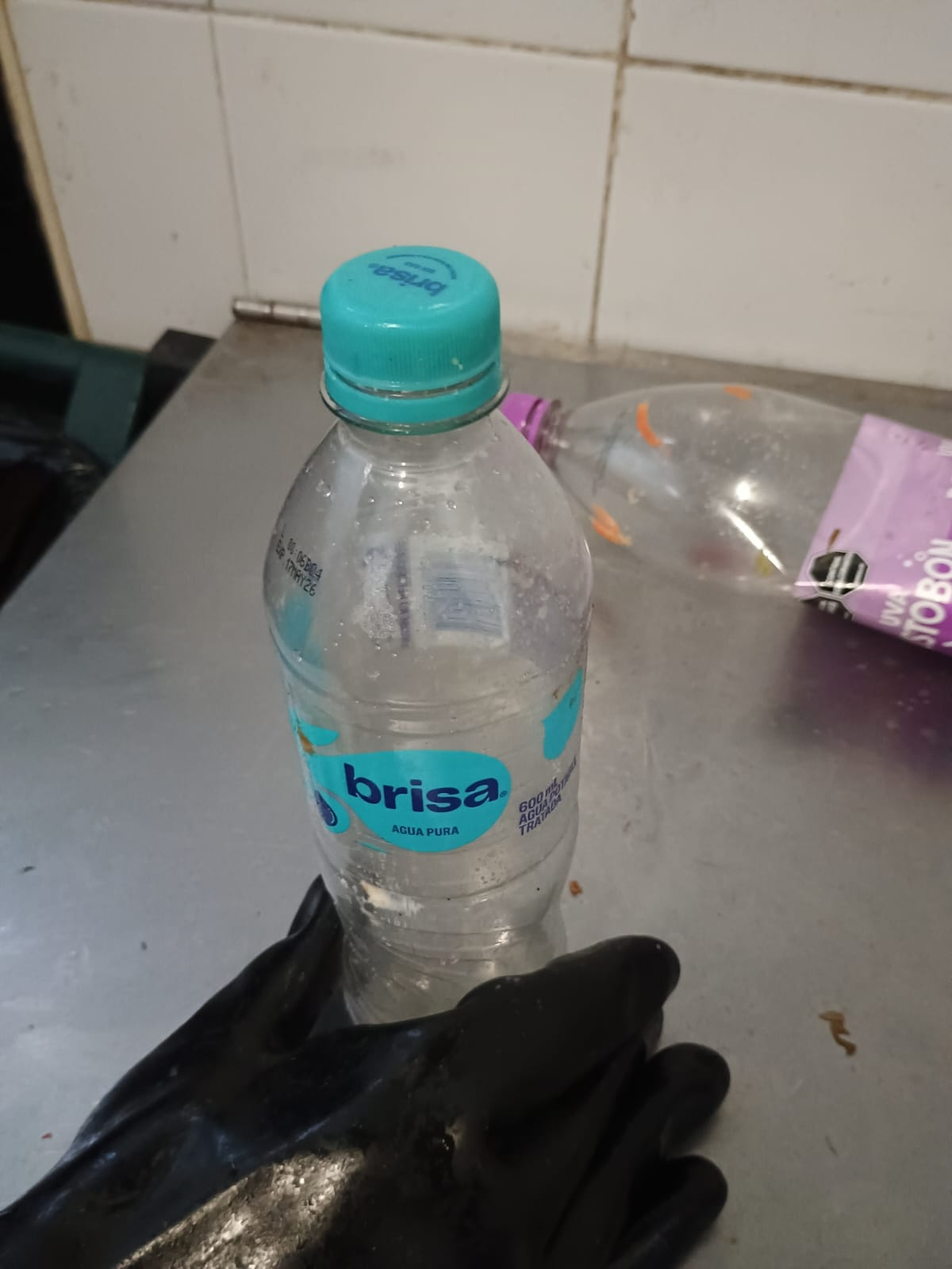Plastico: (266, 242, 598, 1023), (600, 381, 952, 651)
